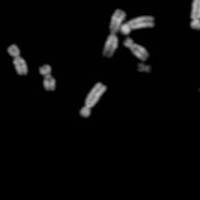chromosome: (100, 8, 125, 57), (79, 83, 106, 117), (8, 43, 28, 74), (123, 37, 149, 60), (121, 17, 154, 35), (38, 63, 55, 90), (190, 0, 200, 29), (137, 63, 149, 73), (199, 77, 200, 93)
